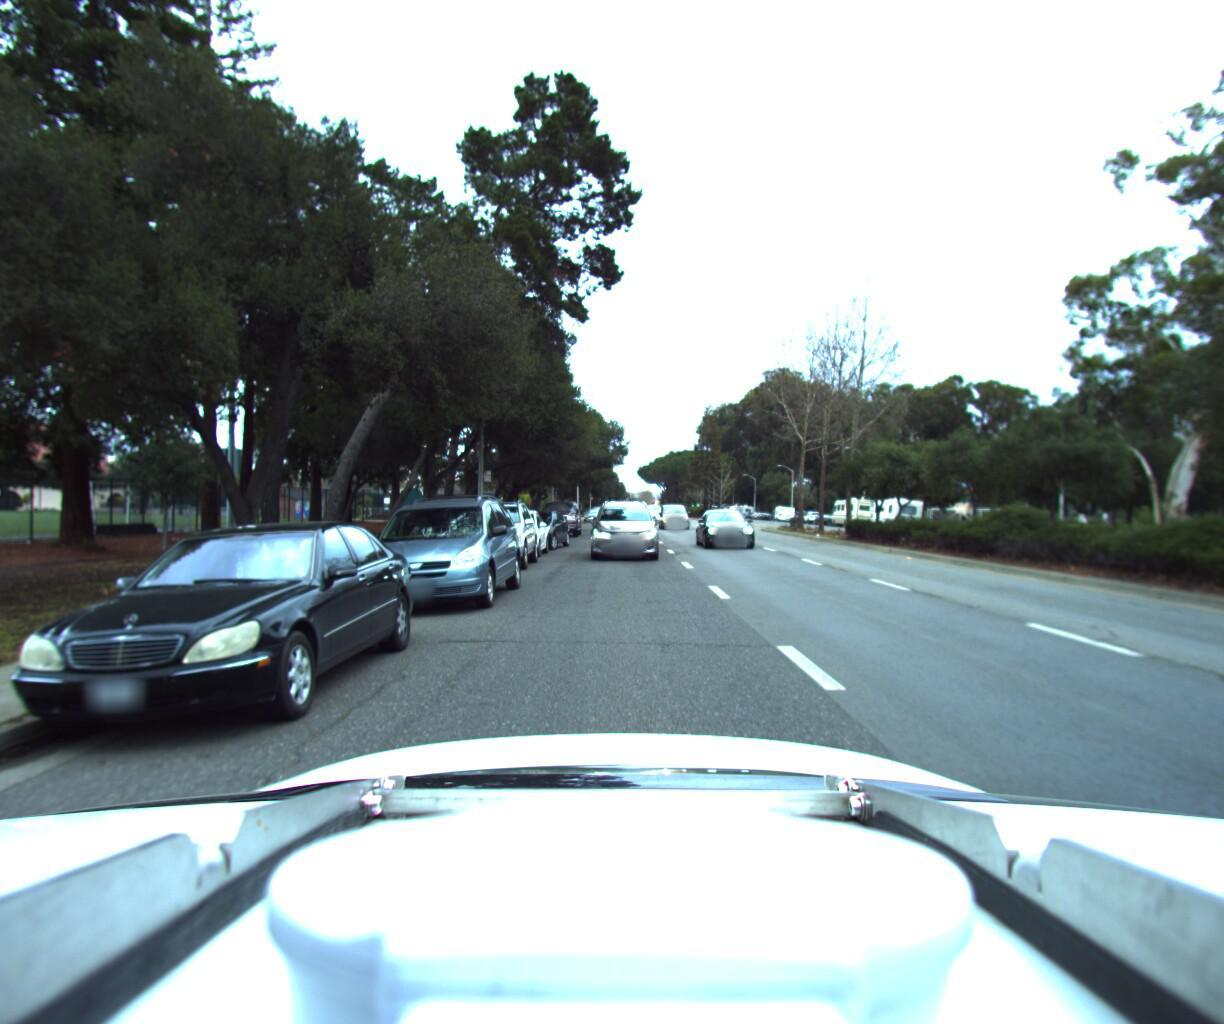car: (344, 482, 525, 618), (446, 488, 542, 567), (588, 487, 660, 554), (485, 500, 549, 554), (504, 500, 573, 546), (696, 502, 764, 545), (534, 491, 583, 531), (662, 492, 694, 522)
other_vehicle: (865, 490, 927, 525)
